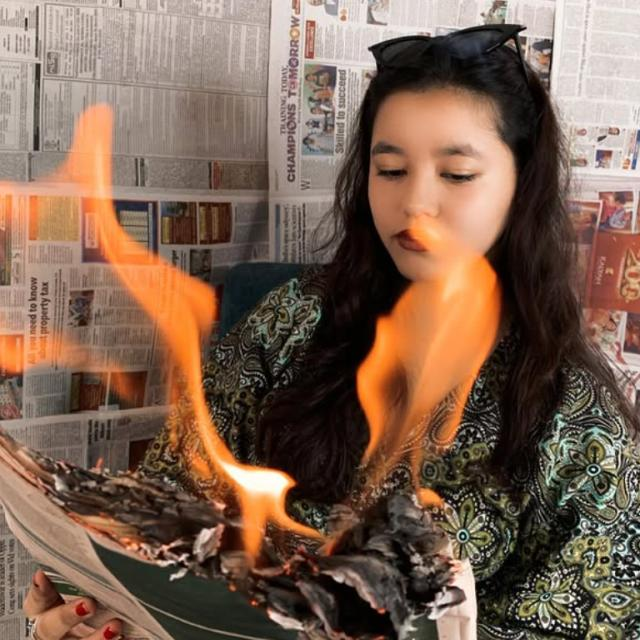fire: (0, 100, 327, 569), (354, 206, 502, 469)
